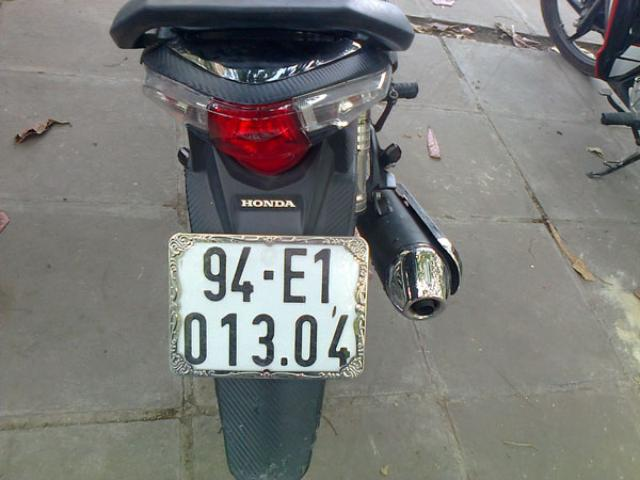plate: (176, 240, 358, 370)
